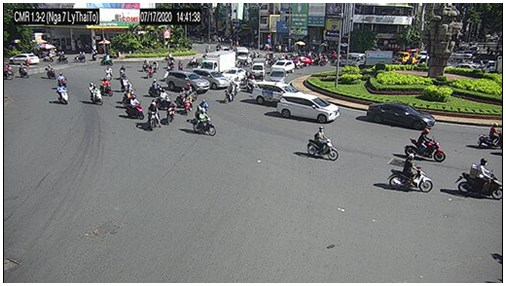xe_hoi: (364, 102, 437, 130), (277, 92, 342, 123), (250, 81, 305, 105), (165, 72, 210, 92), (193, 69, 233, 89), (271, 60, 294, 73), (289, 54, 310, 66)
xe_may: (454, 157, 502, 200), (388, 154, 433, 193), (405, 128, 446, 163), (307, 125, 338, 162), (191, 104, 215, 136), (477, 123, 502, 149), (124, 92, 144, 120), (146, 100, 161, 132), (53, 81, 69, 105), (88, 81, 104, 104), (165, 97, 177, 126), (148, 78, 165, 96), (223, 81, 236, 104), (120, 76, 136, 94), (2, 60, 14, 80), (100, 78, 113, 96), (247, 73, 258, 93), (17, 63, 30, 79), (100, 50, 113, 66), (183, 93, 192, 115), (56, 70, 67, 88), (117, 63, 127, 81), (45, 63, 56, 79), (149, 57, 159, 74), (73, 51, 86, 63), (56, 51, 69, 63), (104, 65, 114, 80), (140, 56, 149, 72), (165, 57, 174, 71), (177, 59, 184, 71)
xe_tai: (352, 48, 393, 71), (198, 50, 237, 72)
